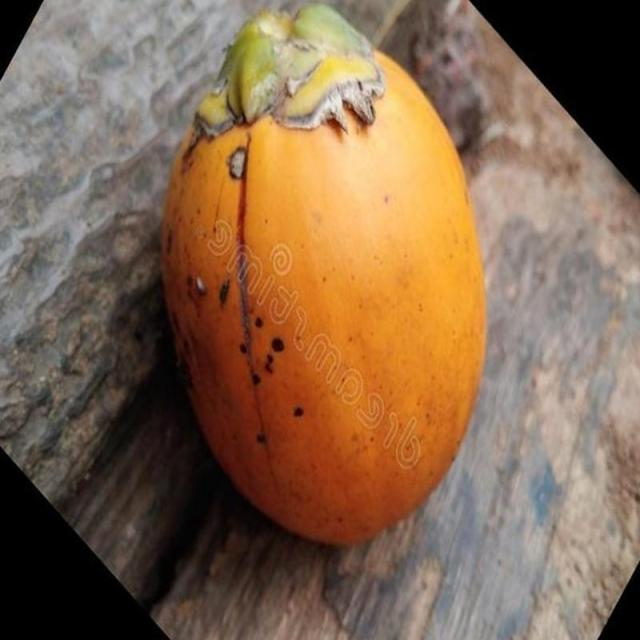good: (158, 5, 488, 550)
